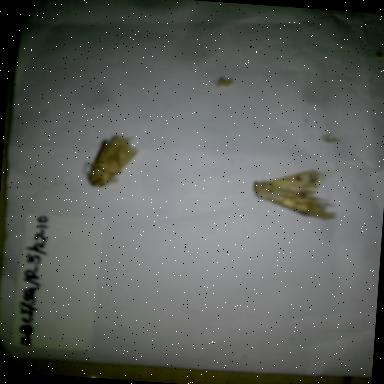abw: (244, 162, 348, 226), (76, 127, 144, 195)
